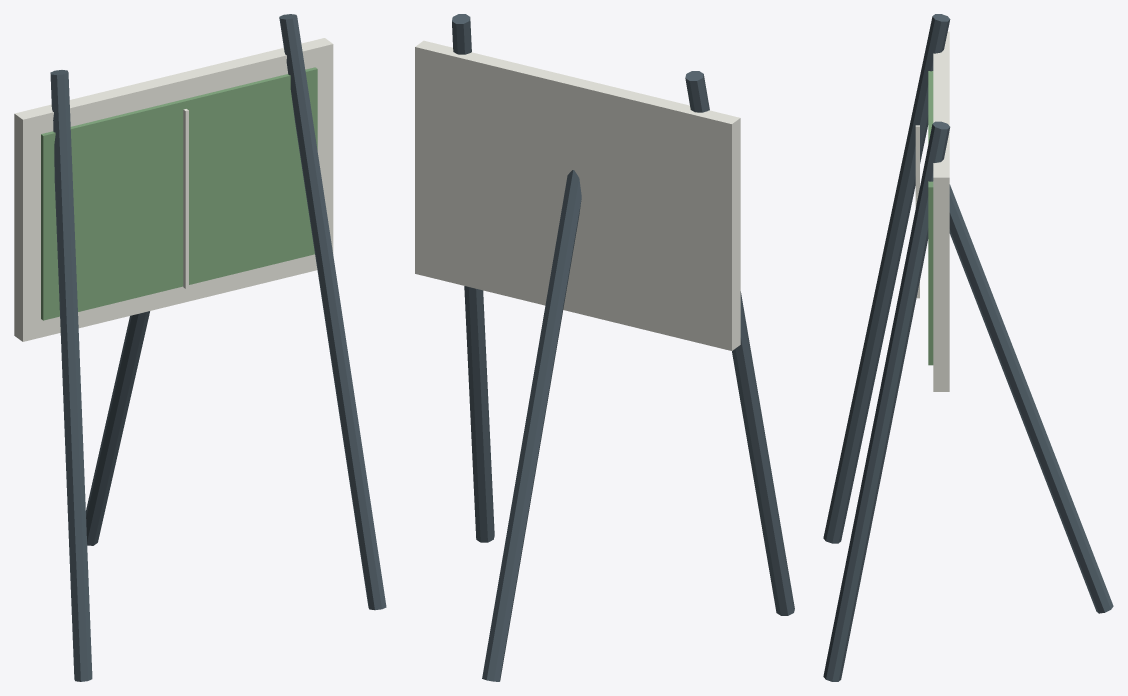
File: tactics-easel-725544ea.glb
3 renders of one model, left to right at view 1: azimuth 30°, elevation 25°; view 2: azimuth 150°, elevation 25°; view 3: azimuth 270°, elevation 25°, orthographic. The views are drawn at different scales.
Parts seen in each view (by area): view 1: tactics-easel; view 2: tactics-easel; view 3: tactics-easel.
Boxes of the visible parts, <box> form: tactics-easel: <box>14,14,386,681</box>; tactics-easel: <box>415,14,794,681</box>; tactics-easel: <box>823,14,1113,681</box>.
Bounding box in the file's own units: 0.9501 × 1.64 × 0.798.
